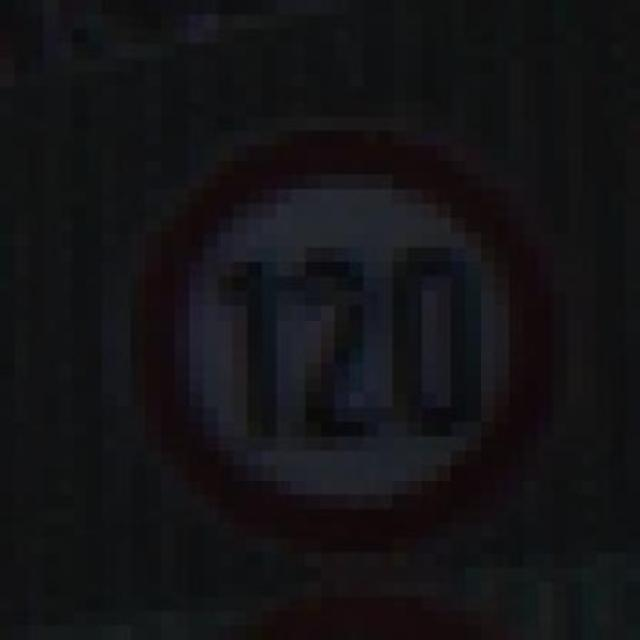forb_speed_over_120: (142, 135, 548, 549)
